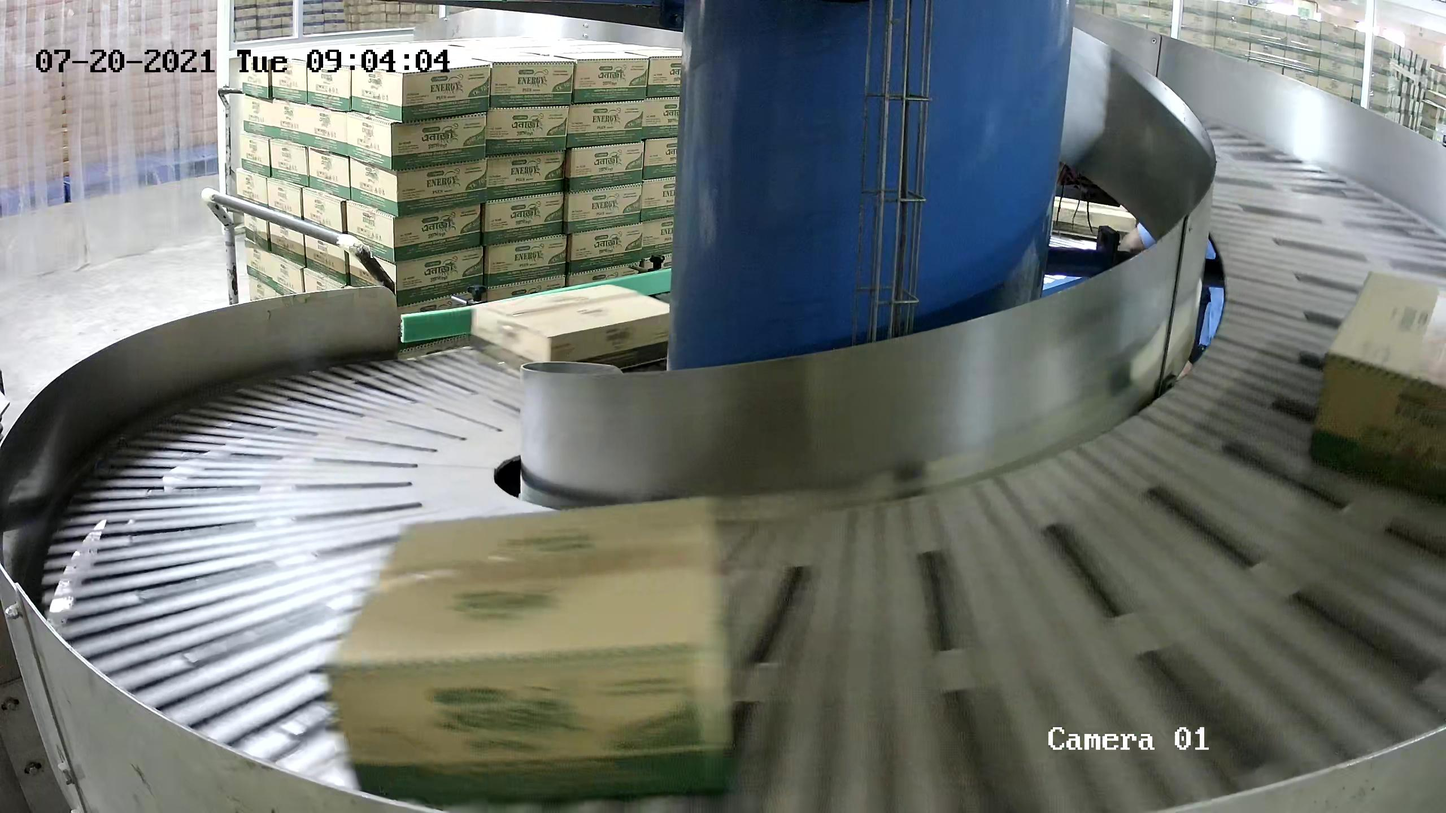Box: (324, 494, 738, 813), (1308, 265, 1446, 511), (469, 282, 689, 384)
